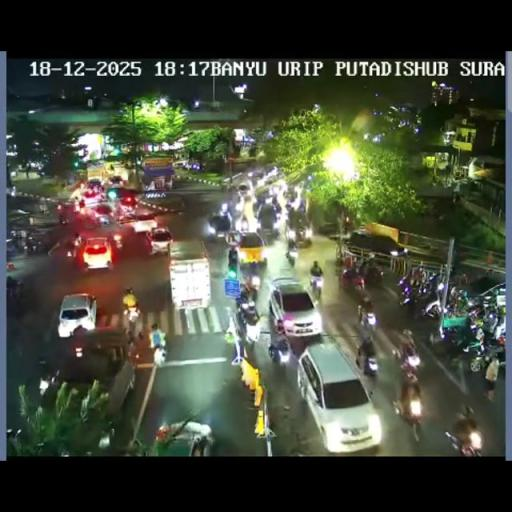Car: (296, 338, 379, 450), (53, 319, 136, 420), (440, 274, 505, 329), (269, 278, 321, 338), (166, 240, 210, 310), (342, 230, 410, 270), (154, 420, 215, 456), (58, 292, 96, 338), (235, 230, 268, 272), (80, 236, 112, 271), (105, 186, 140, 213), (286, 215, 313, 250), (146, 226, 172, 256), (206, 213, 232, 241), (90, 202, 118, 226), (128, 213, 158, 235), (81, 187, 105, 207), (237, 182, 251, 197), (87, 178, 103, 190), (109, 176, 124, 186)
Motorcycle: (393, 380, 423, 439), (464, 334, 503, 374), (402, 279, 439, 318), (445, 422, 484, 456), (394, 332, 421, 376), (428, 322, 458, 356), (453, 348, 470, 391), (148, 326, 166, 365), (122, 306, 141, 342), (340, 266, 366, 292), (356, 345, 378, 375), (38, 366, 60, 396), (257, 212, 279, 242), (112, 435, 143, 456), (269, 339, 291, 366), (362, 262, 384, 288), (5, 426, 23, 456), (243, 316, 262, 344), (358, 303, 376, 332), (234, 306, 246, 342), (492, 310, 506, 340), (308, 272, 323, 299), (63, 236, 81, 258), (6, 277, 23, 300), (409, 264, 425, 288), (234, 284, 249, 308), (246, 266, 260, 291), (6, 237, 22, 258), (284, 243, 298, 266), (452, 270, 469, 288), (24, 236, 40, 254), (227, 247, 238, 269), (273, 206, 284, 224), (334, 249, 344, 267), (113, 232, 123, 250), (58, 206, 68, 224), (220, 180, 230, 194), (39, 203, 49, 215), (164, 178, 172, 190), (73, 201, 80, 213)
